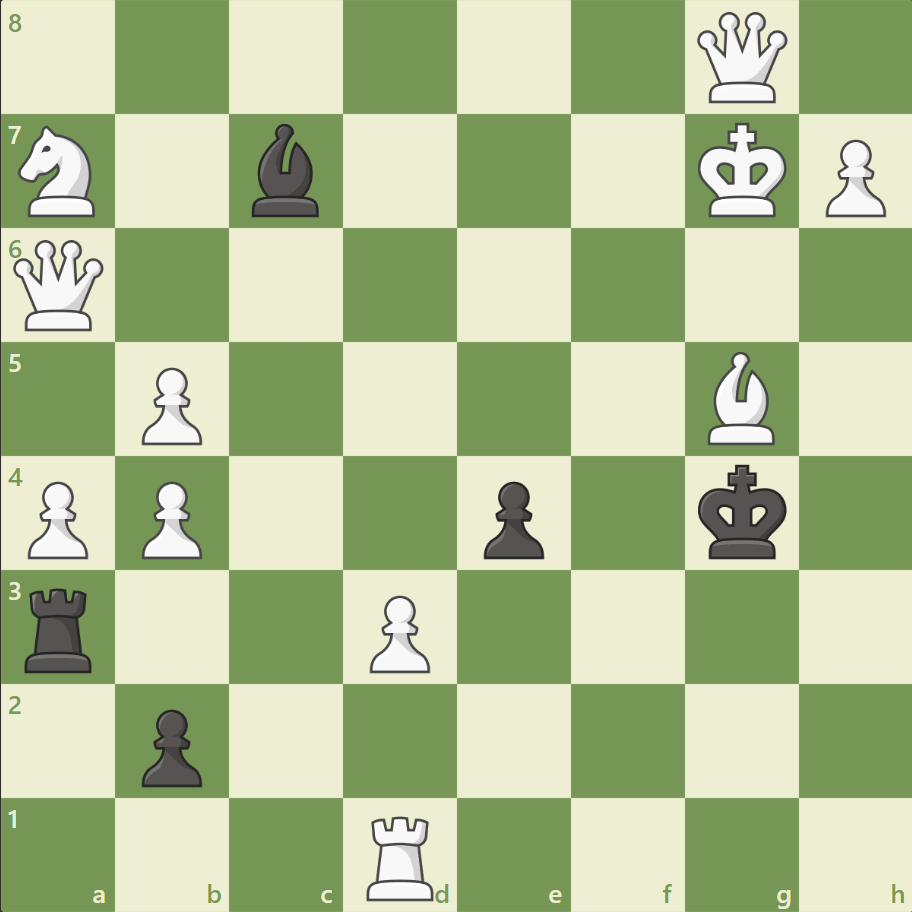B: (698, 347, 782, 449)
K: (692, 117, 792, 225)
N: (11, 121, 108, 223)
P: (133, 359, 208, 450), (20, 473, 95, 564), (133, 473, 208, 564), (815, 132, 889, 223), (361, 586, 435, 677)
Q: (691, 9, 790, 108), (10, 236, 109, 335)
R: (360, 806, 442, 904)
b: (244, 120, 328, 222)
k: (692, 458, 792, 566)
p: (474, 473, 549, 564), (133, 700, 208, 791)
r: (19, 579, 102, 676)
